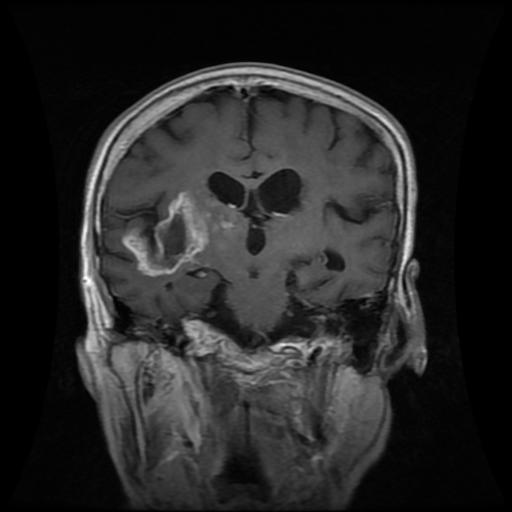Gliomia_tumour: (123, 189, 237, 276)
